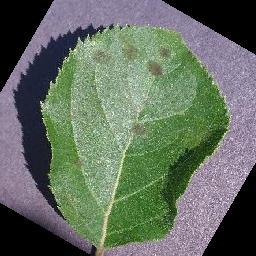apple healthy: (38, 21, 232, 255)
